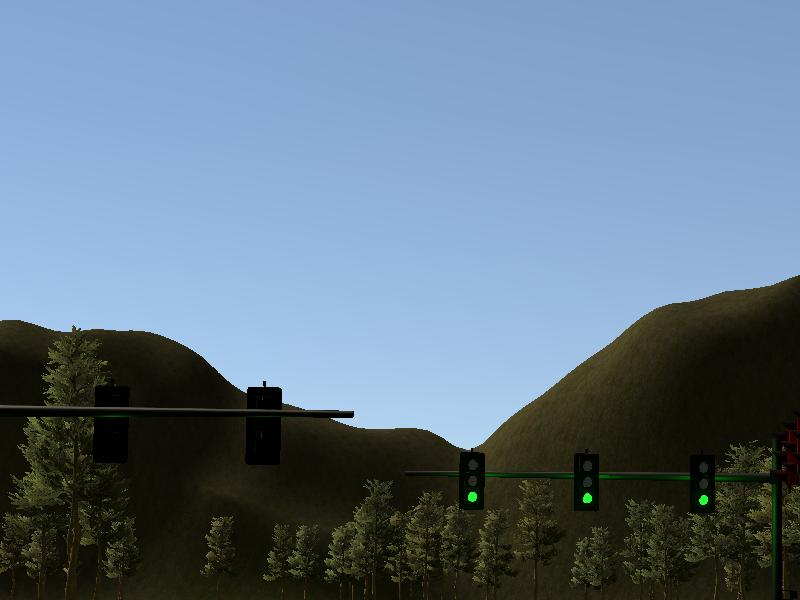Green: (689, 455, 716, 509), (458, 451, 484, 507), (573, 454, 599, 510)
